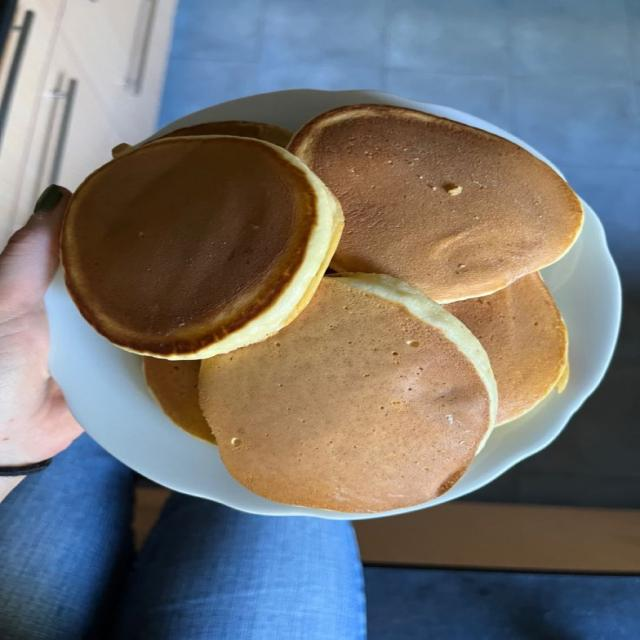pancake: (200, 275, 497, 512), (61, 136, 343, 359), (288, 105, 582, 303), (446, 273, 568, 424), (144, 357, 215, 444), (159, 121, 292, 147), (161, 121, 293, 147)
